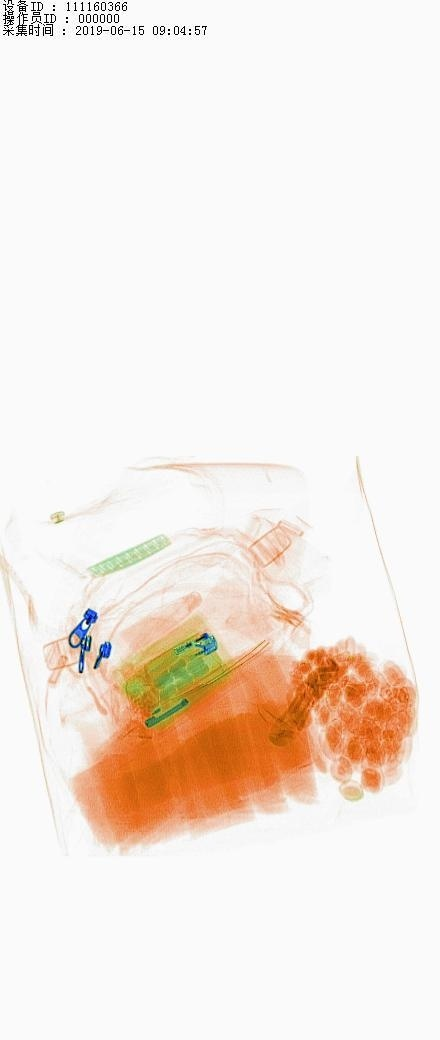NonmetallicFire: (137, 624, 242, 682)
